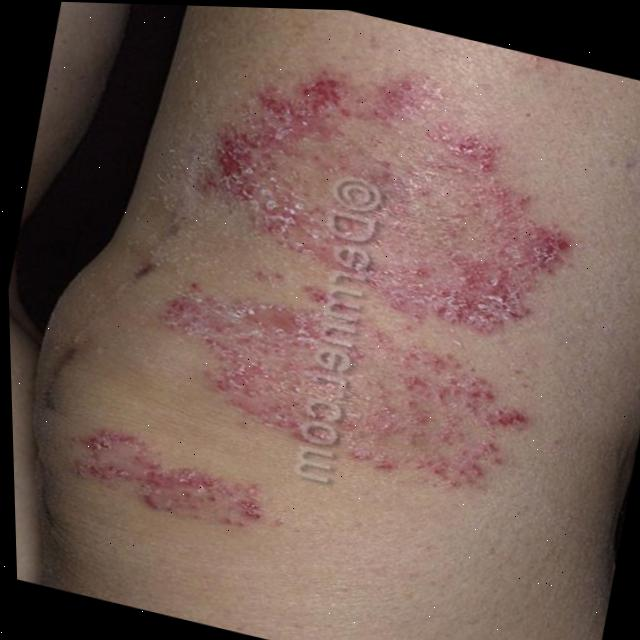Eczema: (174, 13, 609, 360), (127, 263, 539, 516), (59, 410, 300, 553)
